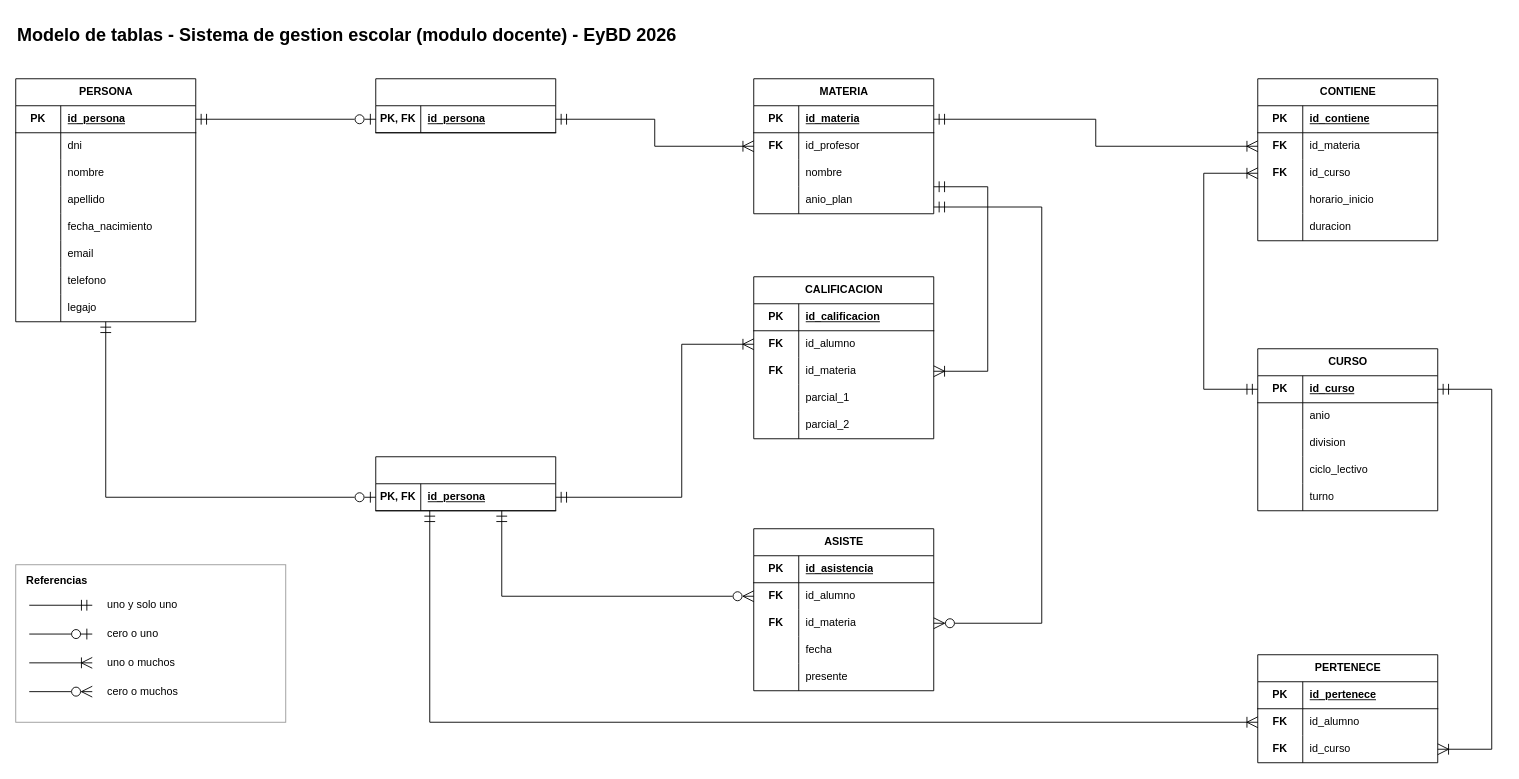
The diagram is 1519 pixels wide and 779 high, and some of its shapes have lost their labels. The box of each missing label's shape, as (x1, y1, x2, y2) in pixels:
ALUMNO: (375, 456, 556, 511)
PROFESOR: (375, 78, 556, 133)
